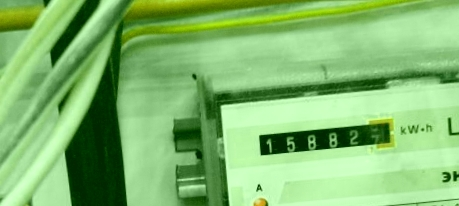1: (263, 136, 274, 153)
2: (347, 127, 358, 145)
5: (284, 134, 295, 151)
7: (369, 132, 379, 144)
8: (326, 130, 337, 148), (305, 133, 316, 150)
screen: (250, 112, 401, 165)
